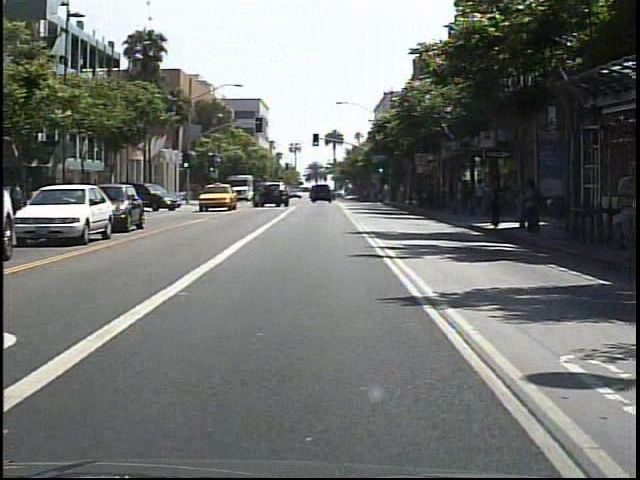person: (490, 164, 514, 233), (522, 177, 546, 242), (476, 177, 492, 217)
